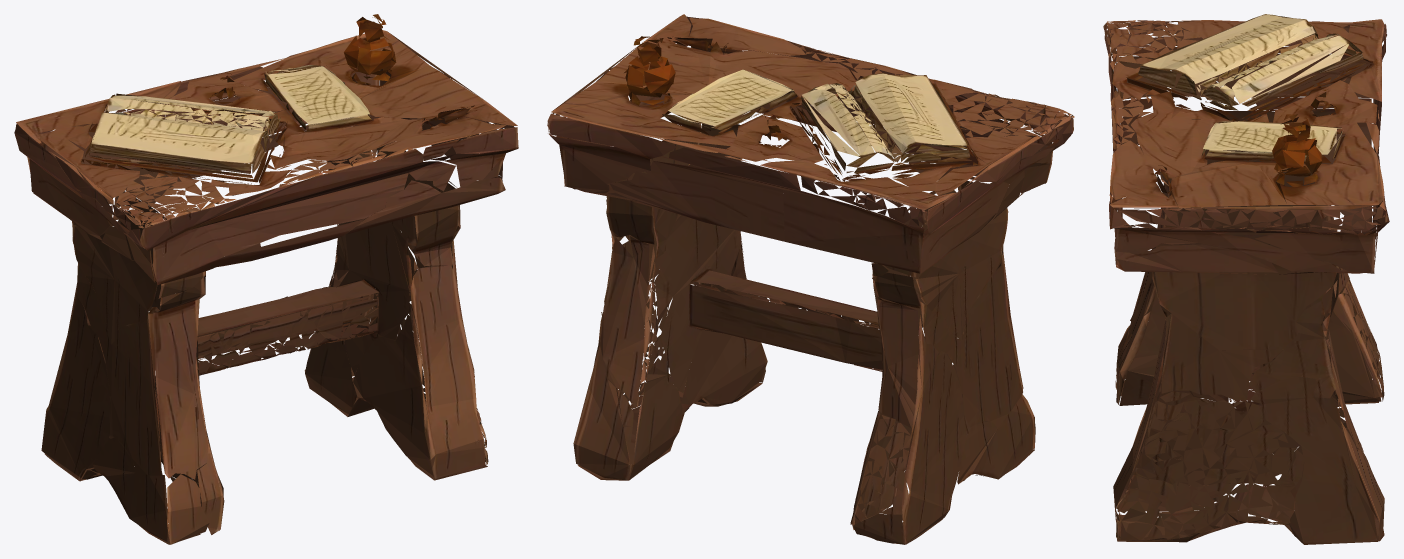
File: desk.glb
The picture shows the model from 3 angles, left to right: view 1: azimuth 30°, elevation 25°; view 2: azimuth 150°, elevation 25°; view 3: azimuth 270°, elevation 25°; orthographic projection. The views are drawn at different scales.
Parts seen in each view (by area): view 1: material; view 2: material; view 3: material.
Boxes of the visible parts, x1,y1,x2,y2 form: material: (14,14,518,544); material: (547,14,1074,544); material: (1103,14,1389,544).
Bounding box in the file's own units: 0.9199 × 0.9172 × 0.5738.
Materials: 1 (1 with a texture image).
